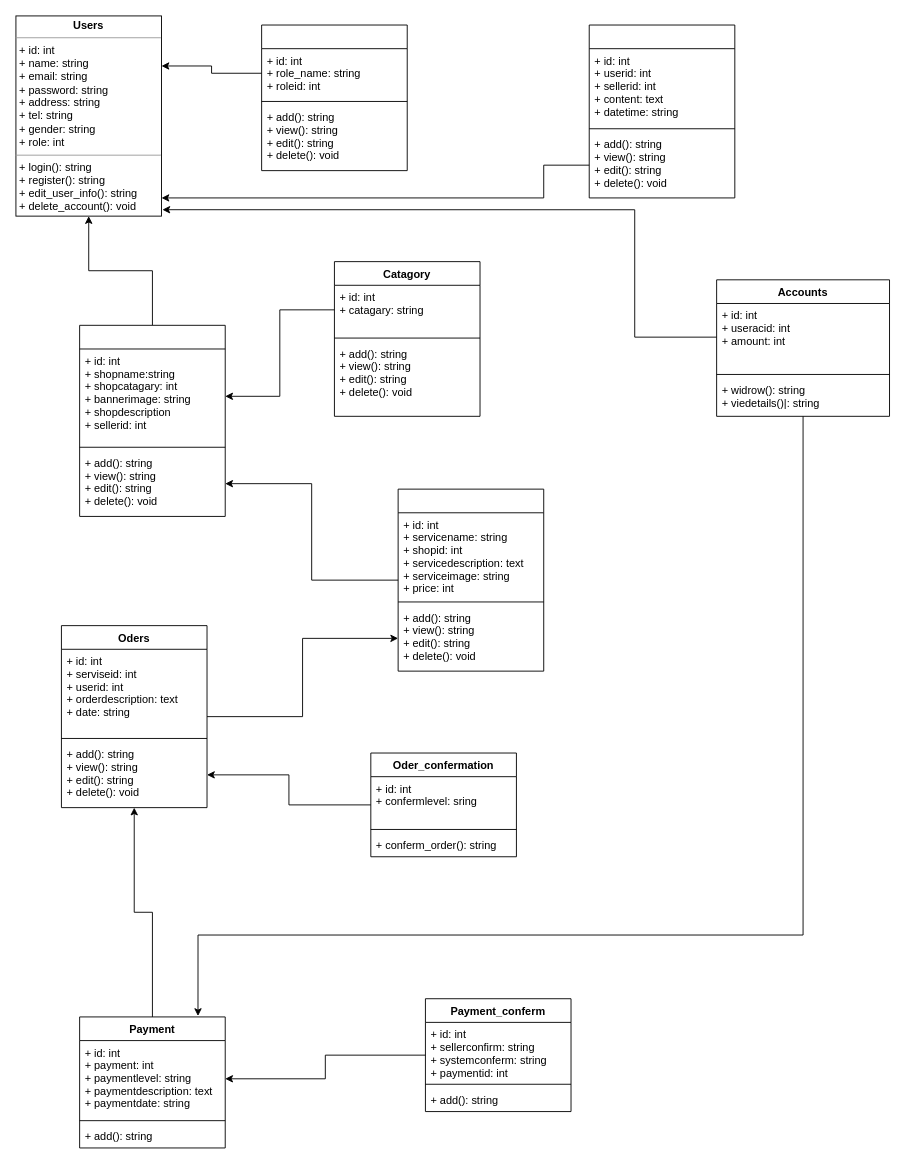
This 905x1167 diagram has some shape labels left out. The shapes that lost their labels are listed below. From the top down, each one's box as (x1, y1, x2, y2) in pixels, then its label:
(261, 24, 407, 171): Roles
(588, 24, 735, 198): Chat
(79, 324, 225, 516): shops
(397, 488, 544, 671): Services
